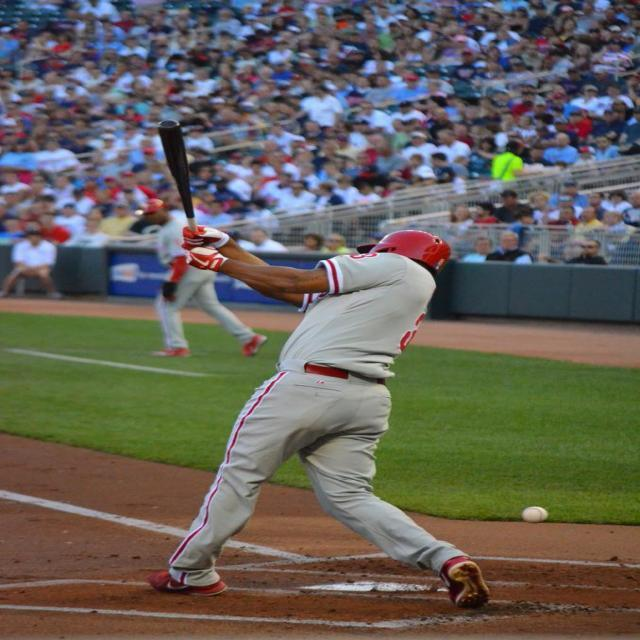baseball bat: (156, 124, 202, 236)
sports ball: (520, 506, 550, 524)
